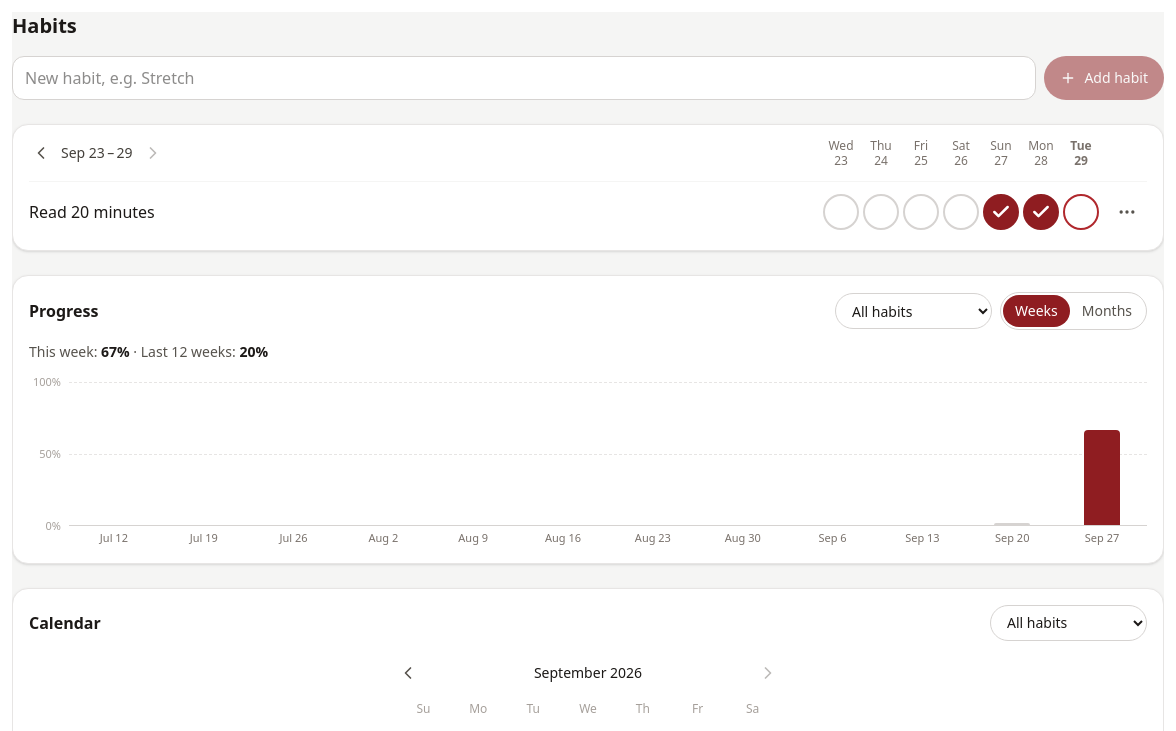
Test case: Habits › goes a week back and forward again, never past today
This screenshot has width=1176, height=731.
expect the button named "Later days" is disabled: met, box top-left (132, 133), bottom-right (172, 173)
Click the button named "Earlier days": (41, 153) top-left (21, 133), bottom-right (61, 173)
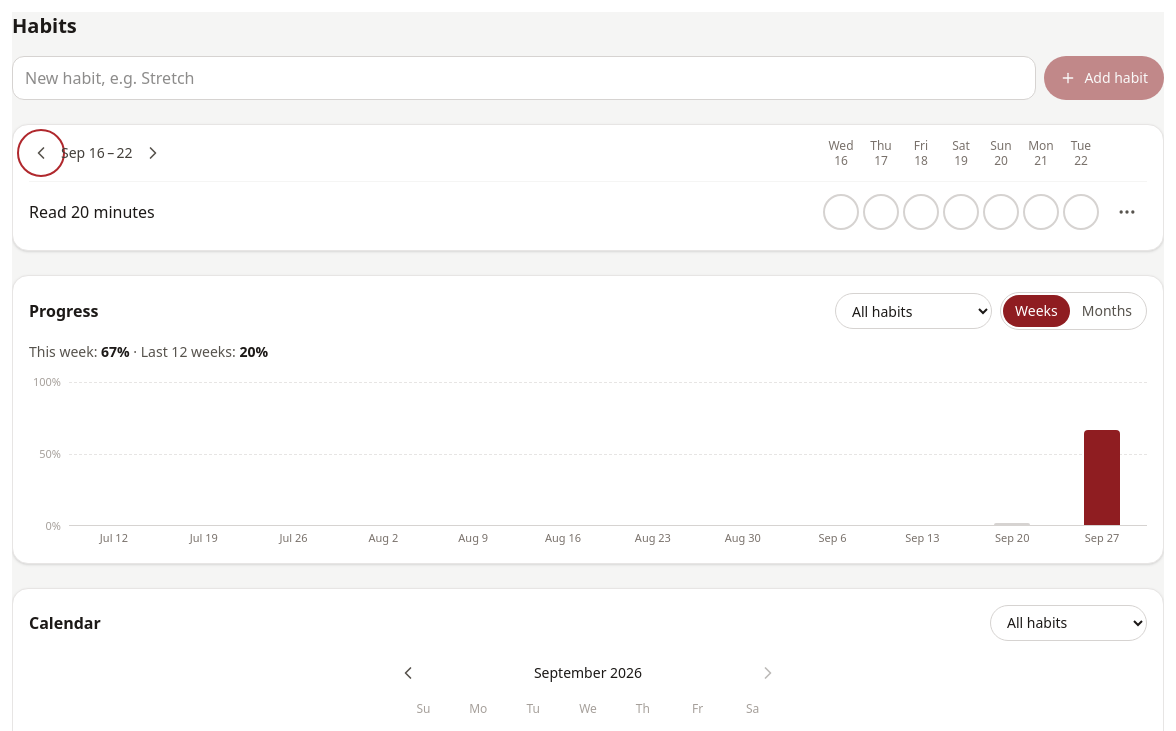
expect the button named "Read 20 minutes, Wednesday, September 16" is shown: met, box top-left (823, 194), bottom-right (859, 230)
expect the text "Sep 16 – 22" is shown: met, box top-left (61, 143), bottom-right (132, 163)
Click the button named "Later days": (152, 153) top-left (132, 133), bottom-right (172, 173)
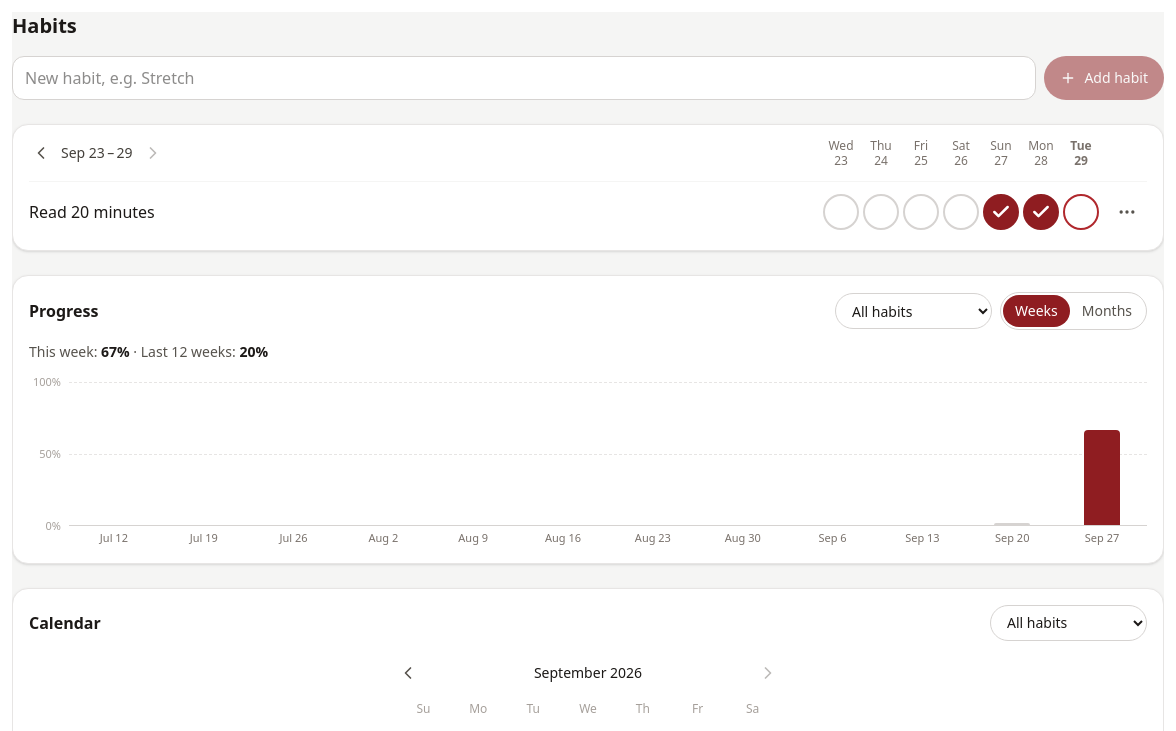
expect the button named "Read 20 minutes, today, Tuesday, September 29" is shown: met, box top-left (1063, 194), bottom-right (1099, 230)
